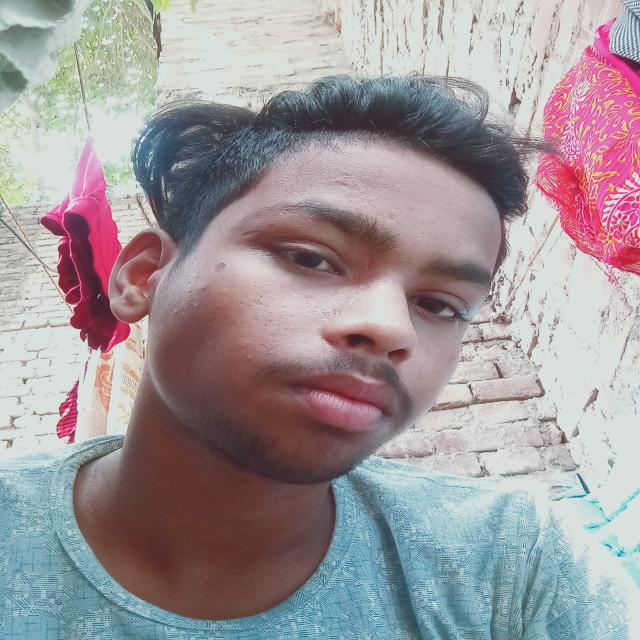Acne: (334, 176, 350, 188), (290, 439, 306, 451), (318, 451, 330, 461), (244, 354, 254, 363)
Blackheads: (238, 284, 298, 332), (182, 272, 237, 300), (168, 282, 196, 316), (258, 333, 284, 355)
Eyebags: (268, 260, 344, 289)
